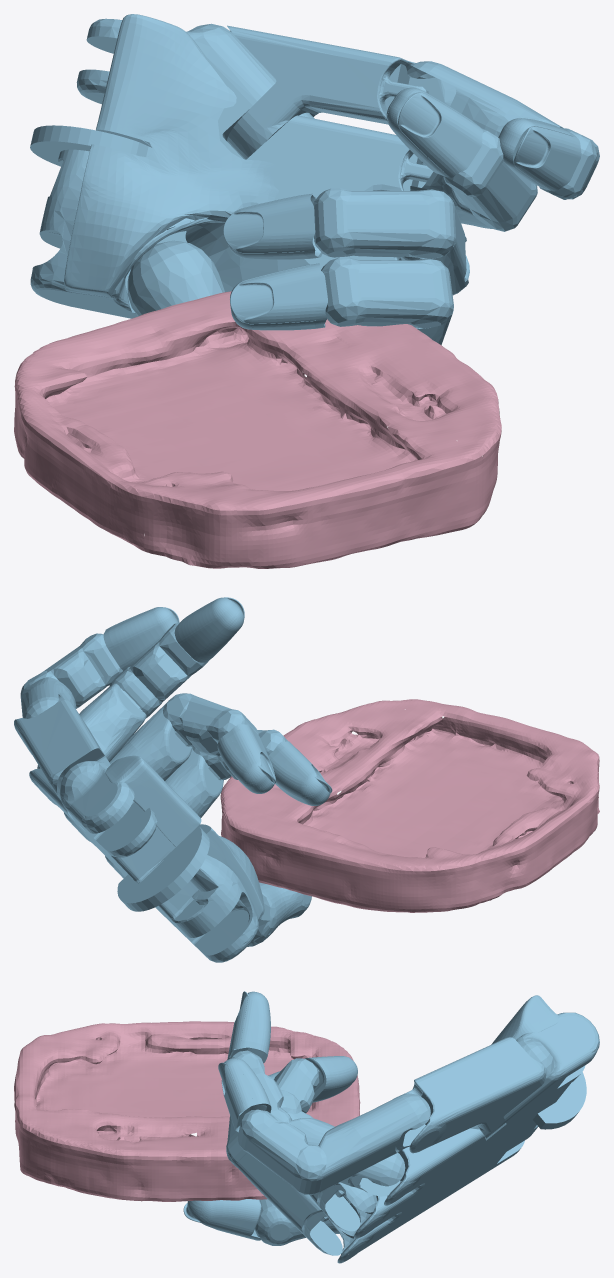
3 views of the same model, one above another, from view 1: azimuth 30°, elevation 25°; view 2: azimuth 150°, elevation 25°; view 3: azimuth 270°, elevation 25° (orthographic). The views are drawn at different scales.
Parts seen in each view (by area): view 1: hand, world; view 2: hand, world; view 3: hand, world.
Boxes of the visible parts, x1=… form: hand: x1=30, y1=14, x2=599, y2=345; world: x1=14, y1=291, x2=501, y2=568; hand: x1=14, y1=597, x2=332, y2=962; world: x1=220, y1=699, x2=599, y2=912; hand: x1=183, y1=991, x2=599, y2=1263; world: x1=14, y1=1021, x2=360, y2=1201.
Bounding box in the file's own units: 0.1969 × 0.1167 × 0.2226.
